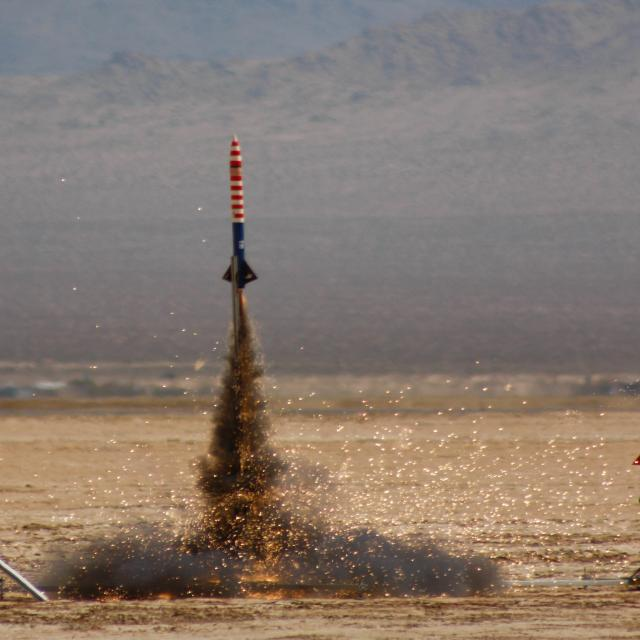Rocket: (220, 132, 260, 288)
